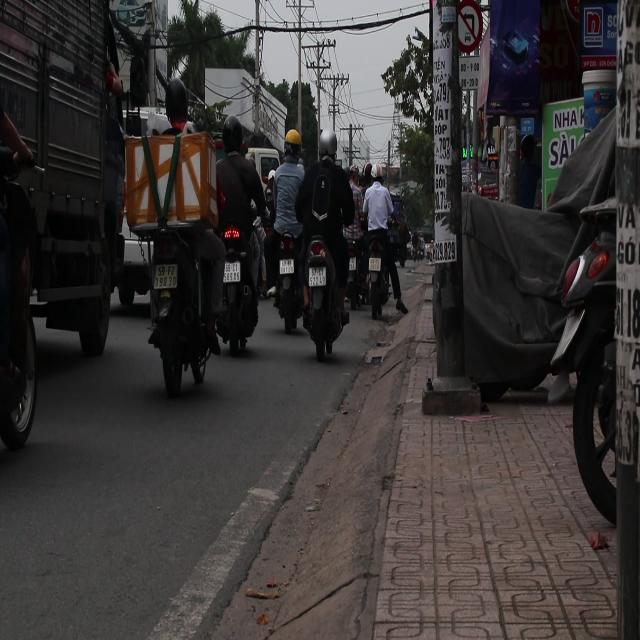motorbike: (146, 220, 224, 396), (216, 215, 264, 358), (304, 227, 341, 369), (271, 224, 308, 336), (369, 247, 391, 325)
truck: (2, 6, 131, 379), (242, 149, 280, 185)
